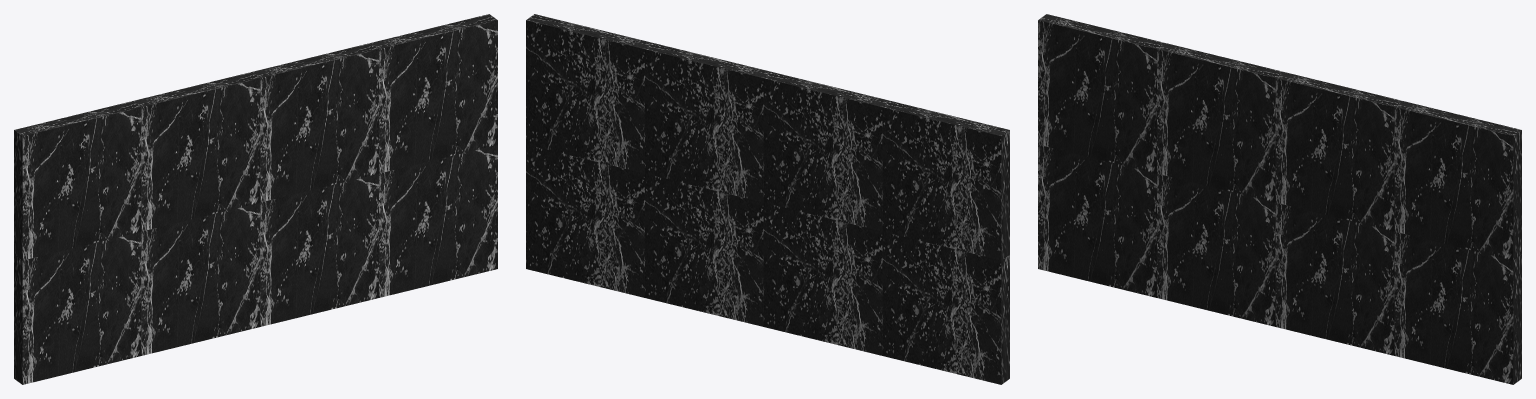
Rendered from TilesRotated.glb.
3 views of the same model, side by side, from view 1: azimuth 30°, elevation 25°; view 2: azimuth 150°, elevation 25°; view 3: azimuth 330°, elevation 25° (orthographic).
Parts seen in each view (by area): view 1: Cube.006; view 2: Cube.006; view 3: Cube.006.
Boxes of the visible parts, box(x1,y1,x2,y2) form: Cube.006: box(14, 14, 497, 384); Cube.006: box(526, 14, 1009, 384); Cube.006: box(1038, 14, 1521, 384).
Bounding box in the file's own units: 64 × 32 × 2.
Materials: 2 (2 with a texture image).
